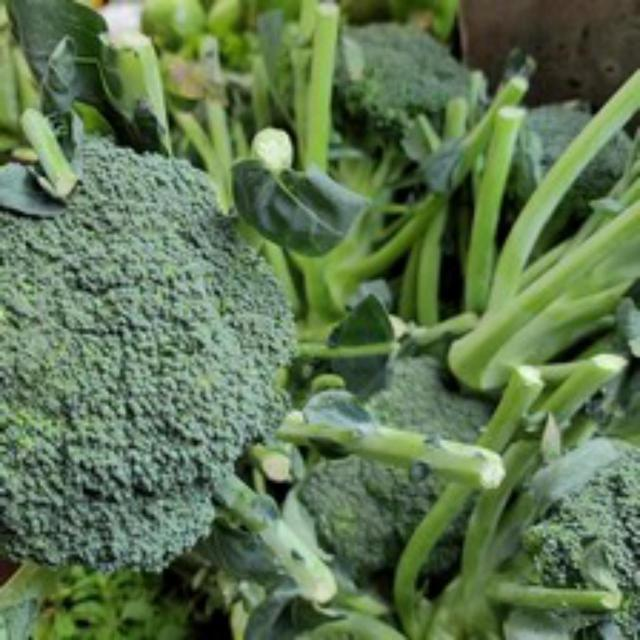broccoli: (0, 138, 304, 585)
